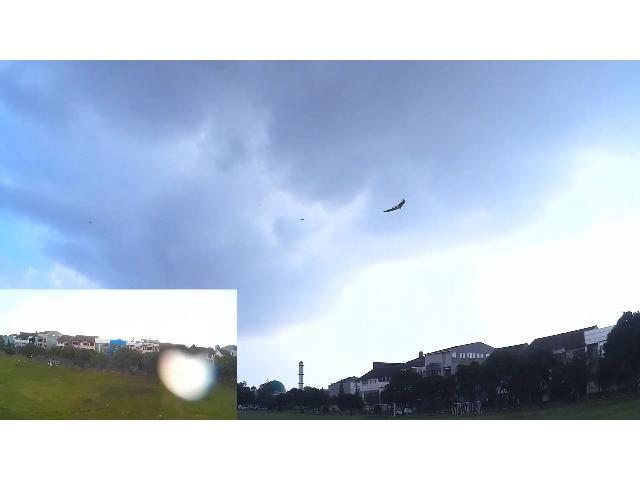Anti-Drone: (383, 199, 405, 213)
